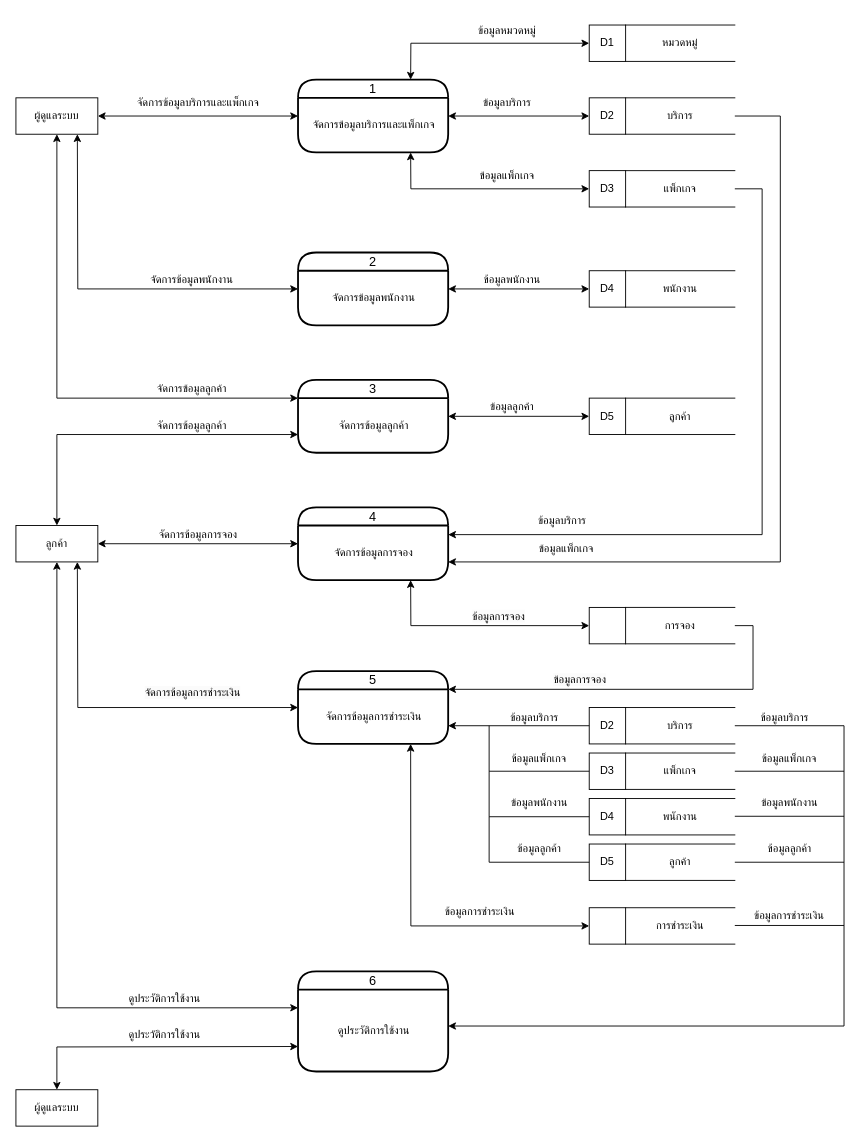
The diagram is 867 pixels wide and 1142 high, and some of its shapes have lost their labels. Each missing label, with the centre of its shape:
"D6" belongs at [607,625].
"D7" belongs at [607,925].
